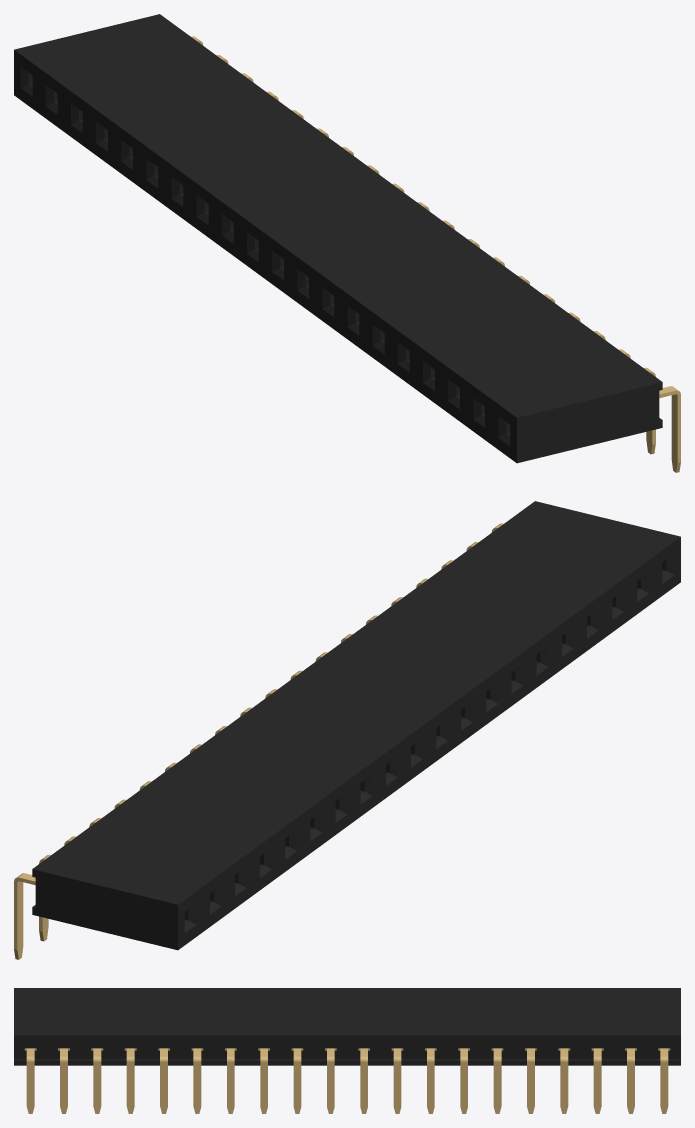
File: kc-pinsocket_1x20_p2.54mm_horizontal.glb
The picture shows the model from 3 angles, top to bottom: view 1: azimuth 30°, elevation 25°; view 2: azimuth 150°, elevation 25°; view 3: azimuth 270°, elevation 25°; orthographic projection. The views are drawn at different scales.
Visible parts, largest first — view 1: 0_0_0_0, 0.75_0.5_0.25_0.9; view 2: 0_0_0_0, 0.75_0.5_0.25_0.9; view 3: 0_0_0_0, 0.75_0.5_0.25_0.9.
Part boxes in pixels (x1,y1,x2,y2): 0_0_0_0: (14,14,662,463); 0.75_0.5_0.25_0.9: (191,36,680,472); 0_0_0_0: (32,501,680,950); 0.75_0.5_0.25_0.9: (14,523,503,959); 0_0_0_0: (14,988,680,1065); 0.75_0.5_0.25_0.9: (24,1048,670,1113).
Size of the model in its own units: 1.01 by 0.5841 by 5.08.
